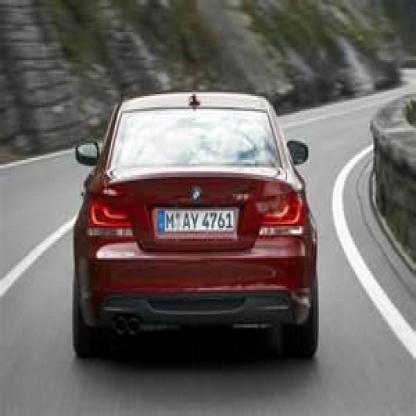Vehicle: (44, 64, 344, 401)
